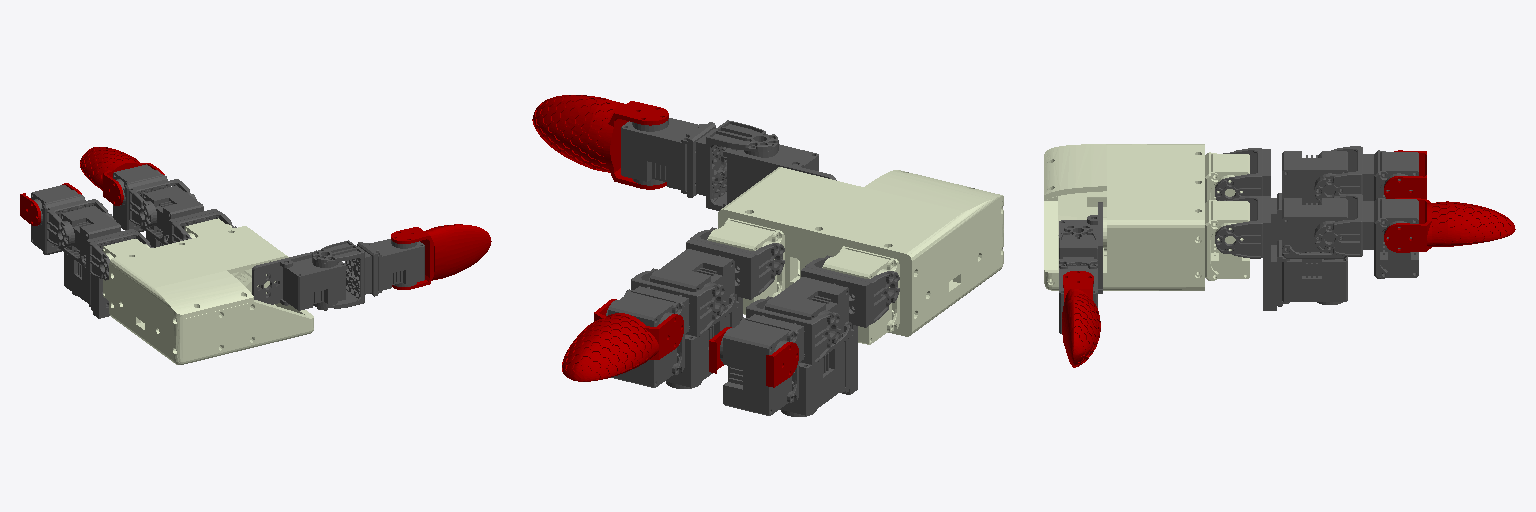
robot.urdf — GX11promax:
<?xml version="1.0" encoding="utf-8"?>
<!-- This URDF was automatically created by SolidWorks to URDF Exporter! Originally created by [author] ([email redacted]) 
     Commit Version: 1.6.0-4-g7f85cfe  Build Version: 1.6.7995.38578
     For more information, please see http://wiki.ros.org/sw_urdf_exporter -->
<robot
  name="GX11promax">
  <link
    name="base_link">
    <inertial>
      <origin
        xyz="0.000312033105377504 0.0559188374133813 -0.000555350477604549"
        rpy="0 0 0" />
      <mass
        value="0.160797512292559" />
      <inertia
        ixx="0.000100702955176406"
        ixy="-1.15922066014657E-05"
        ixz="1.12484051538739E-06"
        iyy="0.000107853474383833"
        iyz="-2.8581846249075E-06"
        izz="0.000188218606855103" />
    </inertial>
    <visual>
      <origin
        xyz="0 0 0"
        rpy="0 0 0" />
      <geometry>
        <mesh
          filename="./meshes/base_link.STL" />
      </geometry>
      <material name="gray">
        <color rgba="0.885 0.915 0.8 1"/>
      </material>
    </visual>
    <collision>
      <origin
        xyz="0 0 0"
        rpy="0 0 0" />
      <geometry>
        <mesh
          filename="./meshes/base_link.STL" />
      </geometry>
    </collision>
  </link>
  <link
    name="Link1">
    <inertial>
      <origin
        xyz="0.0255941711782224 0.000241258010955838 0.010493897443027"
        rpy="0 0 0" />
      <mass
        value="0.0204594242505954" />
      <inertia
        ixx="1.64761094304357E-06"
        ixy="1.1727883663051E-08"
        ixz="-7.63721252771507E-09"
        iyy="3.14103768519526E-06"
        iyz="-8.32099308750898E-23"
        izz="3.81122646460053E-06" />
    </inertial>
    <visual>
      <origin
        xyz="0 0 0"
        rpy="0 0 0" />
      <geometry>
        <mesh
          filename="./meshes/Link1.STL" />
      </geometry>
      <material name="gray">
        <color rgba="0.4 0.4 0.4 1"/>
      </material>
    </visual>
    <collision>
      <origin
        xyz="0 0 0"
        rpy="0 0 0" />
      <geometry>
        <mesh
          filename="./meshes/Link1.STL" />
      </geometry>
    </collision>
  </link>
  <joint
    name="joint1"
    type="revolute">
    <origin
      xyz="0.0309007440278484 0.0305 0.0058732274974783"
      rpy="1.5707963267949 0 0" />
    <parent
      link="base_link" />
    <child
      link="Link1" />
    <axis
      xyz="0 0 1" />
    <limit
      lower="0"
      upper="2.1"
      effort="10"
      velocity="6.2" />
  </joint>
  <link
    name="Link2">
    <inertial>
      <origin
        xyz="0.0407682617952134 4.4127895781898E-14 0.000223487714582398"
        rpy="0 0 0" />
      <mass
        value="0.0220862252142514" />
      <inertia
        ixx="2.25047371705653E-06"
        ixy="3.28488887357354E-18"
        ixz="1.17278836282494E-08"
        iyy="3.34626288327582E-06"
        iyz="9.07874054918504E-18"
        izz="2.44821512682901E-06" />
    </inertial>
    <visual>
      <origin
        xyz="0 0 0"
        rpy="0 0 0" />
      <geometry>
        <mesh
          filename="./meshes/Link2.STL" />
      </geometry>
      <material name="gray">
        <color rgba="0.4 0.4 0.4 1"/>
      </material>
    </visual>
    <collision>
      <origin
        xyz="0 0 0"
        rpy="0 0 0" />
      <geometry>
        <mesh
          filename="./meshes/Link2.STL" />
      </geometry>
    </collision>
  </link>
  <joint
    name="joint2"
    type="revolute">
    <origin
      xyz="0.0344999999999999 0 0.013"
      rpy="-1.5707963267949 0 0" />
    <parent
      link="Link1" />
    <child
      link="Link2" />
    <axis
      xyz="0 0 1" />
    <limit
      lower="-0.25"
      upper="1.7"
      effort="10"
      velocity="6.2" />
  </joint>
  <link
    name="Link3">
    <inertial>
      <origin
        xyz="0.00407809774758189 -6.65938561447699E-08 -1.04083408558608E-17"
        rpy="0 0 0" />
      <mass
        value="0.00125017090070063" />
      <inertia
        ixx="2.40014433117899E-08"
        ixy="7.97359704179151E-13"
        ixz="1.75775880167518E-24"
        iyy="4.71463082785401E-08"
        iyz="1.31561299280712E-23"
        izz="7.01339739927326E-08" />
    </inertial>
    <visual>
      <origin
        xyz="0 0 0"
        rpy="0 0 0" />
      <geometry>
        <mesh
          filename="./meshes/Link3.STL" />
      </geometry>
      <material name="red">
        <color rgba="0.7 0.0 0.0 1"/>
      </material>
    </visual>
    <collision>
      <origin
        xyz="0 0 0"
        rpy="0 0 0" />
      <geometry>
        <mesh
          filename="./meshes/Link3.STL" />
      </geometry>
    </collision>
  </link>
  <joint
    name="joint3"
    type="revolute">
    <origin
      xyz="0.0555000000000001 0 0"
      rpy="0 0 0" />
    <parent
      link="Link2" />
    <child
      link="Link3" />
    <axis
      xyz="0 0 1" />
    <limit
      lower="-0.25"
      upper="1.7"
      effort="10"
      velocity="6.2" />
  </joint>
  <link
    name="Link12">
    <inertial>
      <origin
        xyz="8.1335402813288E-05 -0.00166486750766669 -0.025558003708793"
        rpy="0 0 0" />
      <mass
        value="0.0164248371643224" />
      <inertia
        ixx="2.3508821939384E-06"
        ixy="-3.86158209085121E-11"
        ixz="1.52775496068753E-10"
        iyy="3.00563965204244E-06"
        iyz="3.51792921801991E-08"
        izz="1.31382958537141E-06" />
    </inertial>
    <visual>
      <origin
        xyz="0 0 0"
        rpy="0 0 0" />
      <geometry>
        <mesh
          filename="./meshes/Link12.STL" />
      </geometry>
      <material name="red">
        <color rgba="0.7 0.0 0.0 1"/>
      </material>
    </visual>
    <collision>
      <origin
        xyz="0 0 0"
        rpy="0 0 0" />
      <geometry>
        <mesh
          filename="./meshes/Link12.STL" />
      </geometry>
    </collision>
  </link>
  <joint
    name="joint12"
    type="fixed">
    <origin
      xyz="0.0570187350990352 0.00231569753250521 8.14092925386471E-05"
      rpy="0 1.5707963267949 0" />
    <parent
      link="Link3" />
    <child
      link="Link12" />
    <axis
      xyz="0 0 0" />
    <limit
      lower="-1"
      upper="1"
      effort="0"
      velocity="0" />
  </joint>
  <link
    name="Link4">
    <inertial>
      <origin
        xyz="0.0343877567350999 -0.0218255061736905 -1.16909953939981E-13"
        rpy="0 0 0" />
      <mass
        value="0.0259800201624105" />
      <inertia
        ixx="3.93599324991523E-06"
        ixy="5.40235204916075E-08"
        ixz="-2.94315829951474E-17"
        iyy="3.03368719937263E-06"
        iyz="4.15585120901418E-18"
        izz="4.29362563855095E-06" />
    </inertial>
    <visual>
      <origin
        xyz="0 0 0"
        rpy="0 0 0" />
      <geometry>
        <mesh
          filename="./meshes/Link4.STL" />
      </geometry>
      <material name="gray">
        <color rgba="0.4 0.4 0.4 1"/>
      </material>
    </visual>
    <collision>
      <origin
        xyz="0 0 0"
        rpy="0 0 0" />
      <geometry>
        <mesh
          filename="./meshes/Link4.STL" />
      </geometry>
    </collision>
  </link>
  <joint
    name="joint4"
    type="revolute">
    <origin
      xyz="0.029 0.096 0.00806475912646926"
      rpy="1.5707963267949 0 1.5707963267949" />
    <parent
      link="base_link" />
    <child
      link="Link4" />
    <axis
      xyz="0 0 1" />
    <limit
      lower="-0.3"
      upper="1.6"
      effort="10"
      velocity="6.2" />
  </joint>
  <link
    name="Link5">
    <inertial>
      <origin
        xyz="-0.00693594209096299 -0.000279377685939716 0.0118671806604443"
        rpy="0 0 0" />
      <mass
        value="0.0176678393043425" />
      <inertia
        ixx="1.47006653226869E-06"
        ixy="-1.17278787211214E-08"
        ixz="-4.36210007715237E-15"
        iyy="2.21216244461737E-06"
        iyz="1.53129454691632E-16"
        izz="2.71458475513644E-06" />
    </inertial>
    <visual>
      <origin
        xyz="0 0 0"
        rpy="0 0 0" />
      <geometry>
        <mesh
          filename="./meshes/Link5.STL" />
      </geometry>
      <material name="gray">
        <color rgba="0.4 0.4 0.4 1"/>
      </material>
    </visual>
    <collision>
      <origin
        xyz="0 0 0"
        rpy="0 0 0" />
      <geometry>
        <mesh
          filename="./meshes/Link5.STL" />
      </geometry>
    </collision>
  </link>
  <joint
    name="joint5"
    type="revolute">
    <origin
      xyz="0.0515 -0.0119999999999991 0"
      rpy="-1.5707963267949 0 0" />
    <parent
      link="Link4" />
    <child
      link="Link5" />
    <axis
      xyz="0 0 -1" />
    <limit
      lower="-0.6"
      upper="0.6"
      effort="10"
      velocity="6.2" />
  </joint>
  <link
    name="Link6">
    <inertial>
      <origin
        xyz="0.0306969035122656 -0.00550289582691389 -0.000221655002058015"
        rpy="0 0 0" />
      <mass
        value="0.0222688407504672" />
      <inertia
        ixx="3.39223294772132E-06"
        ixy="4.36812949837023E-15"
        ixz="-1.81856366192471E-16"
        iyy="2.14774478329101E-06"
        iyz="-1.17278787182961E-08"
        izz="2.47775221177695E-06" />
    </inertial>
    <visual>
      <origin
        xyz="0 0 0"
        rpy="0 0 0" />
      <geometry>
        <mesh
          filename="./meshes/Link6.STL" />
      </geometry>
      <material name="gray">
        <color rgba="0.4 0.4 0.4 1"/>
      </material>
    </visual>
    <collision>
      <origin
        xyz="0 0 0"
        rpy="0 0 0" />
      <geometry>
        <mesh
          filename="./meshes/Link6.STL" />
      </geometry>
    </collision>
  </link>
  <joint
    name="joint6"
    type="revolute">
    <origin
      xyz="0 0 0.013"
      rpy="1.5707963267949 0 0" />
    <parent
      link="Link5" />
    <child
      link="Link6" />
    <axis
      xyz="0 0 1" />
    <limit
      lower="-0.506"
      upper="1.885"
      effort="10"
      velocity="6.2" />
  </joint>
  <link
    name="Link7">
    <inertial>
      <origin
        xyz="0.00407809774758192 6.65938562245671E-08 -1.11022302462516E-16"
        rpy="0 0 0" />
      <mass
        value="0.00125017090070063" />
      <inertia
        ixx="2.40014433117899E-08"
        ixy="-7.9735970419414E-13"
        ixz="-5.51842243189203E-23"
        iyy="4.71463082785403E-08"
        iyz="-2.5435416626375E-23"
        izz="7.01339739927328E-08" />
    </inertial>
    <visual>
      <origin
        xyz="0 0 0"
        rpy="0 0 0" />
      <geometry>
        <mesh
          filename="./meshes/Link7.STL" />
      </geometry>
      <material name="red">
        <color rgba="0.7 0.0 0.0 1"/>
      </material>
    </visual>
    <collision>
      <origin
        xyz="0 0 0"
        rpy="0 0 0" />
      <geometry>
        <mesh
          filename="./meshes/Link7.STL" />
      </geometry>
    </collision>
  </link>
  <joint
    name="joint7"
    type="revolute">
    <origin
      xyz="0.036 0 0"
      rpy="3.14159265358979 0 0" />
    <parent
      link="Link6" />
    <child
      link="Link7" />
    <axis
      xyz="0 0 -1" />
    <limit
      lower="-0.366"
      upper="2.042"
      effort="10"
      velocity="6.2" />
  </joint>
  <link
    name="Link13">
    <inertial>
      <origin
        xyz="-8.13400999538118E-05 0.00166486239118922 -0.0255580037394252"
        rpy="0 0 0" />
      <mass
        value="0.016424837165235" />
      <inertia
        ixx="2.35088182791415E-06"
        ixy="-3.84307874164728E-11"
        ixz="-1.51618546307564E-10"
        iyy="3.00564049616382E-06"
        iyz="-3.51780609409142E-08"
        izz="1.31383009868489E-06" />
    </inertial>
    <visual>
      <origin
        xyz="0 0 0"
        rpy="0 0 0" />
      <geometry>
        <mesh
          filename="./meshes/Link13.STL" />
      </geometry>
      <material name="red">
        <color rgba="0.7 0.0 0.0 1"/>
      </material>
    </visual>
    <collision>
      <origin
        xyz="0 0 0"
        rpy="0 0 0" />
      <geometry>
        <mesh
          filename="./meshes/Link13.STL" />
      </geometry>
    </collision>
  </link>
  <joint
    name="joint13"
    type="fixed">
    <origin
      xyz="0.0570187350990352 -0.00231569753250514 -8.14092925387963E-05"
      rpy="0 1.5707963267949 0" />
    <parent
      link="Link7" />
    <child
      link="Link13" />
    <axis
      xyz="0 0 0" />
  </joint>
  <link
    name="Link8">
    <inertial>
      <origin
        xyz="0.034387756735096 -0.0218255061736946 -1.17045262371107E-13"
        rpy="0 0 0" />
      <mass
        value="0.0259800201624256" />
      <inertia
        ixx="3.93599324991521E-06"
        ixy="5.40235204916678E-08"
        ixz="-2.94210091036974E-17"
        iyy="3.03368719937266E-06"
        iyz="4.1822595311076E-18"
        izz="4.293625638551E-06" />
    </inertial>
    <visual>
      <origin
        xyz="0 0 0"
        rpy="0 0 0" />
      <geometry>
        <mesh
          filename="./meshes/Link8.STL" />
      </geometry>
      <material name="gray">
        <color rgba="0.4 0.4 0.4 1"/>
      </material>
    </visual>
    <collision>
      <origin
        xyz="0 0 0"
        rpy="0 0 0" />
      <geometry>
        <mesh
          filename="./meshes/Link8.STL" />
      </geometry>
    </collision>
  </link>
  <joint
    name="joint8"
    type="revolute">
    <origin
      xyz="-0.0289999999999999 0.096 0.00806475912646949"
      rpy="1.5707963267949 0 1.5707963267949" />
    <parent
      link="base_link" />
    <child
      link="Link8" />
    <axis
      xyz="0 0 1" />
    <limit
      lower="-0.314"
      upper="2.23"
      effort="10"
      velocity="6.2" />
  </joint>
  <link
    name="Link9">
    <inertial>
      <origin
        xyz="-0.00693594212200646 -0.000279377679085181 0.011867180660409"
        rpy="0 0 0" />
      <mass
        value="0.0176678393044255" />
      <inertia
        ixx="1.47006653227021E-06"
        ixy="-1.17278787191726E-08"
        ixz="4.3636658277301E-15"
        iyy="2.21216244462187E-06"
        iyz="-1.53881432448031E-16"
        izz="2.71458475514133E-06" />
    </inertial>
    <visual>
      <origin
        xyz="0 0 0"
        rpy="0 0 0" />
      <geometry>
        <mesh
          filename="./meshes/Link9.STL" />
      </geometry>
      <material name="gray">
        <color rgba="0.4 0.4 0.4 1"/>
      </material>
    </visual>
    <collision>
      <origin
        xyz="0 0 0"
        rpy="0 0 0" />
      <geometry>
        <mesh
          filename="./meshes/Link9.STL" />
      </geometry>
    </collision>
  </link>
  <joint
    name="joint9"
    type="revolute">
    <origin
      xyz="0.0515 -0.0119999999999994 0"
      rpy="-1.5707963267949 0 0" />
    <parent
      link="Link8" />
    <child
      link="Link9" />
    <axis
      xyz="0 0 -1" />
    <limit
      lower="-0.6"
      upper="0.6"
      effort="10"
      velocity="6.2" />
  </joint>
  <link
    name="Link10">
    <inertial>
      <origin
        xyz="0.0306969035122455 -0.0055028958269694 -0.000221655001767671"
        rpy="0 0 0" />
      <mass
        value="0.0222688407505351" />
      <inertia
        ixx="3.39223294772279E-06"
        ixy="4.36052961522859E-15"
        ixz="-1.26836697019448E-16"
        iyy="2.14774478329251E-06"
        iyz="-1.17278787162833E-08"
        izz="2.47775221177791E-06" />
    </inertial>
    <visual>
      <origin
        xyz="0 0 0"
        rpy="0 0 0" />
      <geometry>
        <mesh
          filename="./meshes/Link10.STL" />
      </geometry>
      <material name="gray">
        <color rgba="0.4 0.4 0.4 1"/>
      </material>
    </visual>
    <collision>
      <origin
        xyz="0 0 0"
        rpy="0 0 0" />
      <geometry>
        <mesh
          filename="./meshes/Link10.STL" />
      </geometry>
    </collision>
  </link>
  <joint
    name="joint10"
    type="revolute">
    <origin
      xyz="0 0 0.013"
      rpy="1.5708 0 0" />
    <parent
      link="Link9" />
    <child
      link="Link10" />
    <axis
      xyz="0 0 1" />
    <limit
      lower="-0.506"
      upper="1.885"
      effort="10"
      velocity="6.2" />
  </joint>
  <link
    name="Link11">
    <inertial>
      <origin
        xyz="0.00407809774758178 6.65938561551782E-08 0"
        rpy="0 0 0" />
      <mass
        value="0.00125017090070063" />
      <inertia
        ixx="2.40014433117899E-08"
        ixy="-7.97359704187499E-13"
        ixz="-5.48213759628279E-23"
        iyy="4.71463082785402E-08"
        iyz="7.31847139371896E-24"
        izz="7.01339739927327E-08" />
    </inertial>
    <visual>
      <origin
        xyz="0 0 0"
        rpy="0 0 0" />
      <geometry>
        <mesh
          filename="./meshes/Link11.STL" />
      </geometry>
      <material name="red">
        <color rgba="0.7 0.0 0.0 1"/>
      </material>
    </visual>
    <collision>
      <origin
        xyz="0 0 0"
        rpy="0 0 0" />
      <geometry>
        <mesh
          filename="./meshes/Link11.STL" />
      </geometry>
    </collision>
  </link>
  <joint
    name="joint11"
    type="revolute">
    <origin
      xyz="0.0359999999999999 0 0"
      rpy="-3.14159265358979 0 0" />
    <parent
      link="Link10" />
    <child
      link="Link11" />
    <axis
      xyz="0 0 -1" />
    <limit
      lower="-0.366"
      upper="2.042"
      effort="10"
      velocity="6.2" />
  </joint>
  <link
    name="Link14">
    <inertial>
      <origin
        xyz="-8.13402247644215E-05 0.00166486231231224 -0.0255580035739592"
        rpy="0 0 0" />
      <mass
        value="0.0164248372683252" />
      <inertia
        ixx="2.3508818769117E-06"
        ixy="-3.84474455364657E-11"
        ixz="-1.51615796905866E-10"
        iyy="3.00564050957234E-06"
        iyz="-3.51780291748176E-08"
        izz="1.31383008699383E-06" />
    </inertial>
    <visual>
      <origin
        xyz="0 0 0"
        rpy="0 0 0" />
      <geometry>
        <mesh
          filename="./meshes/Link14.STL" />
      </geometry>
      <material name="red">
        <color rgba="0.7 0.0 0.0 1"/>
      </material>
    </visual>
    <collision>
      <origin
        xyz="0 0 0"
        rpy="0 0 0" />
      <geometry>
        <mesh
          filename="./meshes/Link14.STL" />
      </geometry>
    </collision>
  </link>
  <joint
    name="joint14"
    type="fixed">
    <origin
      xyz="0.057019 -0.0023157 -8.1409E-05"
      rpy="0 1.5708 0" />
    <parent
      link="Link11" />
    <child
      link="Link14" />
    <axis
      xyz="0 0 0" />
  </joint>
</robot>

--- Render facts (derived) ---
3 views of the same robot in one strip: view 1: azimuth 30°, elevation 25°; view 2: azimuth 150°, elevation 25°; view 3: azimuth 270°, elevation 25° (orthographic).
Robot: GX11promax — 15 links, 14 joints (11 revolute, 3 fixed); root link base_link; default pose: all joints at 0.
Visible links, largest first — view 1: base_link, Link2, Link1, Link12, Link8, Link10, Link6, Link5, Link9, Link13, Link4, Link3 (+2 smaller); view 2: base_link, Link2, Link10, Link8, Link6, Link12, Link4, Link13, Link1, Link5, Link9, Link11 (+2 smaller); view 3: base_link, Link4, Link6, Link10, Link13, Link5, Link9, Link12, Link8, Link2, Link7, Link11 (+1 smaller).
Link boxes in pixels (box(x1,y1,x2,y2)): base_link: box(103, 218, 313, 364); Link2: box(312, 239, 424, 310); Link1: box(252, 250, 345, 310); Link12: box(420, 224, 491, 283); Link8: box(64, 229, 153, 318); Link10: box(31, 185, 113, 254); Link6: box(113, 164, 196, 232); Link5: box(141, 185, 203, 244); Link9: box(59, 206, 120, 266); Link13: box(80, 147, 145, 190); Link4: box(146, 209, 236, 247); Link3: box(391, 227, 429, 289); base_link: box(707, 167, 1003, 344); Link2: box(621, 118, 778, 210); Link10: box(720, 296, 840, 415); Link8: box(780, 255, 899, 416); Link6: box(606, 268, 725, 387); Link12: box(532, 95, 628, 179); Link4: box(666, 227, 784, 388); Link13: box(562, 313, 658, 381); Link1: box(723, 144, 836, 207); Link5: box(649, 249, 738, 327); Link9: box(763, 277, 853, 355); Link11: box(709, 327, 798, 387); base_link: box(1044, 144, 1249, 290); Link4: box(1215, 196, 1347, 310); Link6: box(1314, 194, 1418, 278); Link10: box(1314, 146, 1418, 200); Link13: box(1427, 200, 1515, 250); Link5: box(1282, 198, 1347, 258); Link9: box(1282, 151, 1347, 204); Link12: box(1062, 289, 1100, 367); Link8: box(1215, 148, 1281, 244); Link2: box(1059, 225, 1097, 333); Link7: box(1384, 198, 1426, 252); Link11: box(1384, 150, 1426, 198).
Size in the robot's own frame: 0.2299 by 0.2435 by 0.0581 metres.
14 mesh visuals loaded from 15 distinct referenced files (14 binary STL); not drawn: 1 (reference not matched to a file when rendering).